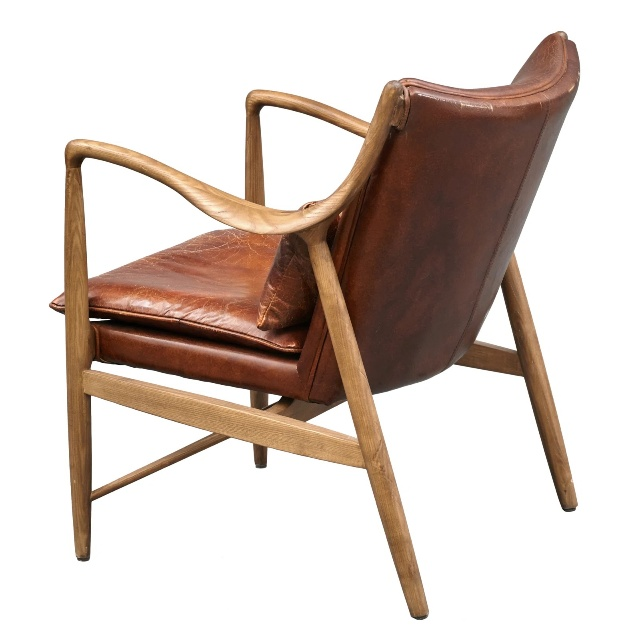obstacle: (52, 32, 579, 618)
